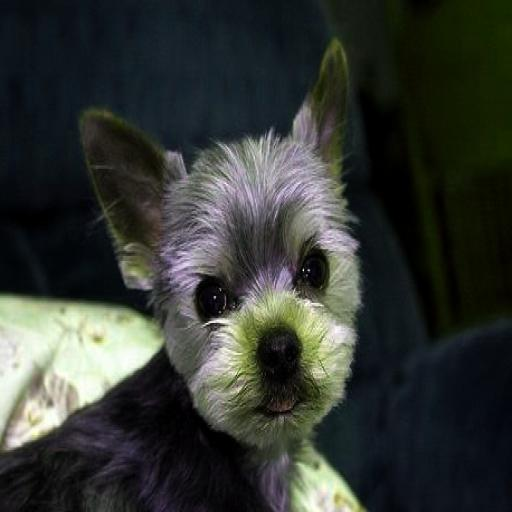dog_face: (87, 44, 356, 458)
